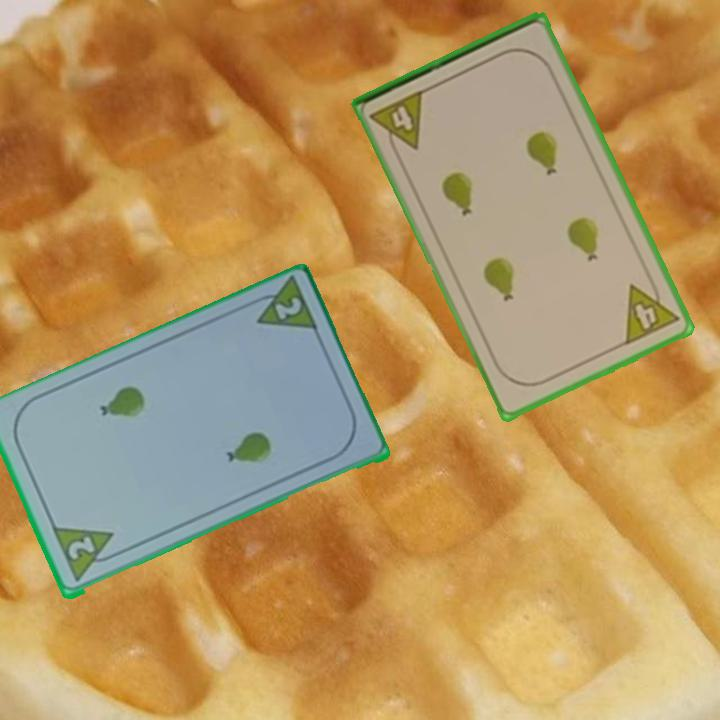2p: (64, 533, 98, 564), (270, 294, 304, 324)
4p: (621, 272, 682, 348), (367, 86, 428, 160)
